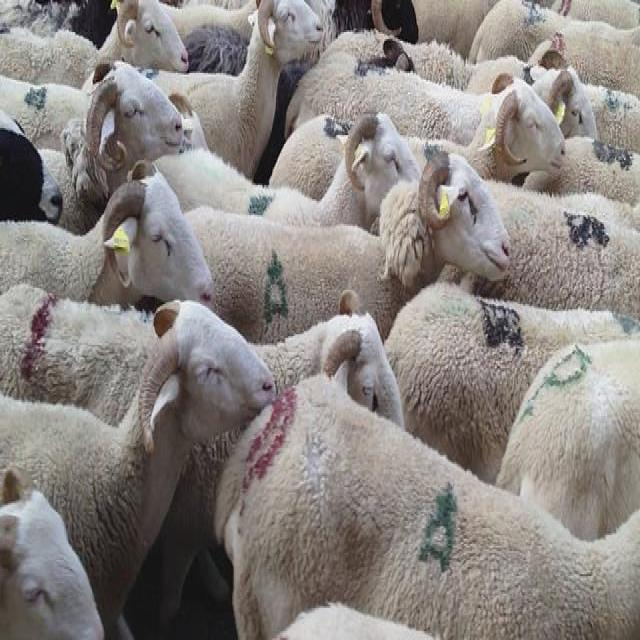Sheep: (0, 2, 639, 638), (214, 372, 639, 634), (1, 293, 272, 635), (187, 157, 514, 343), (385, 281, 639, 483), (266, 78, 568, 204), (153, 114, 425, 238), (148, 0, 325, 178), (2, 60, 184, 233), (287, 54, 605, 150), (431, 178, 639, 316), (0, 174, 211, 310), (240, 310, 408, 430), (0, 2, 191, 89), (3, 471, 101, 631)
